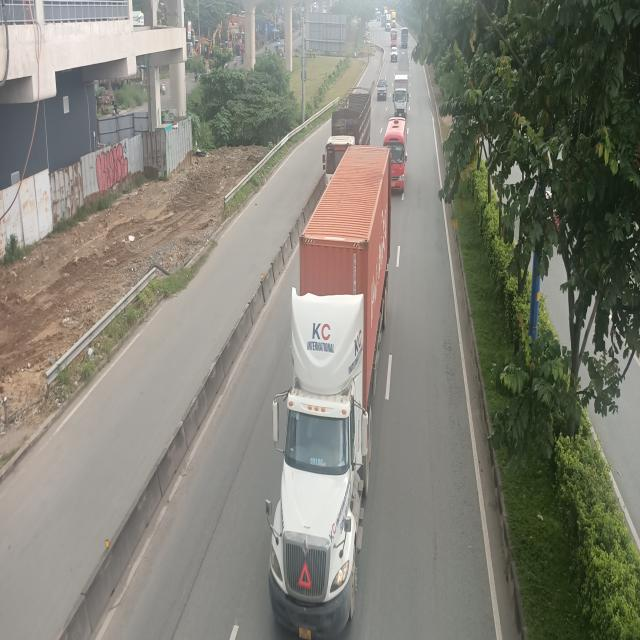coach: (383, 117, 408, 196)
container: (264, 149, 388, 640)
truck: (324, 86, 374, 206), (392, 75, 410, 119)
